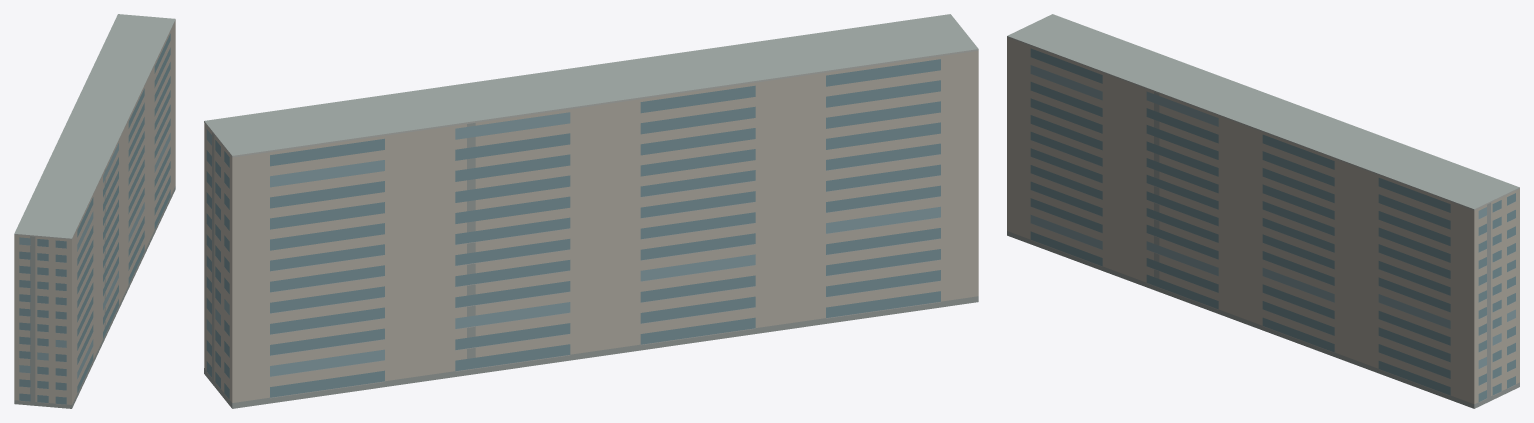
File: residential-1267700f-7290-43d3-b8b1-3ddbaae9e013.glb
3 renders of one model, left to right at view 1: azimuth 30°, elevation 25°; view 2: azimuth 150°, elevation 25°; view 3: azimuth 270°, elevation 25°, orthographic. The views are drawn at different scales.
Parts seen in each view (by area): view 1: residential-1267700f-7290-43d3-b8b1-3ddbaae9e013.tmp; view 2: residential-1267700f-7290-43d3-b8b1-3ddbaae9e013.tmp; view 3: residential-1267700f-7290-43d3-b8b1-3ddbaae9e013.tmp.
Boxes of the visible parts, x1,y1,x2,y2 form: residential-1267700f-7290-43d3-b8b1-3ddbaae9e013.tmp: (14, 14, 175, 408); residential-1267700f-7290-43d3-b8b1-3ddbaae9e013.tmp: (204, 14, 978, 408); residential-1267700f-7290-43d3-b8b1-3ddbaae9e013.tmp: (1007, 14, 1519, 408).
Bounding box in the file's own units: 76.8 × 36.6 × 85.21.
